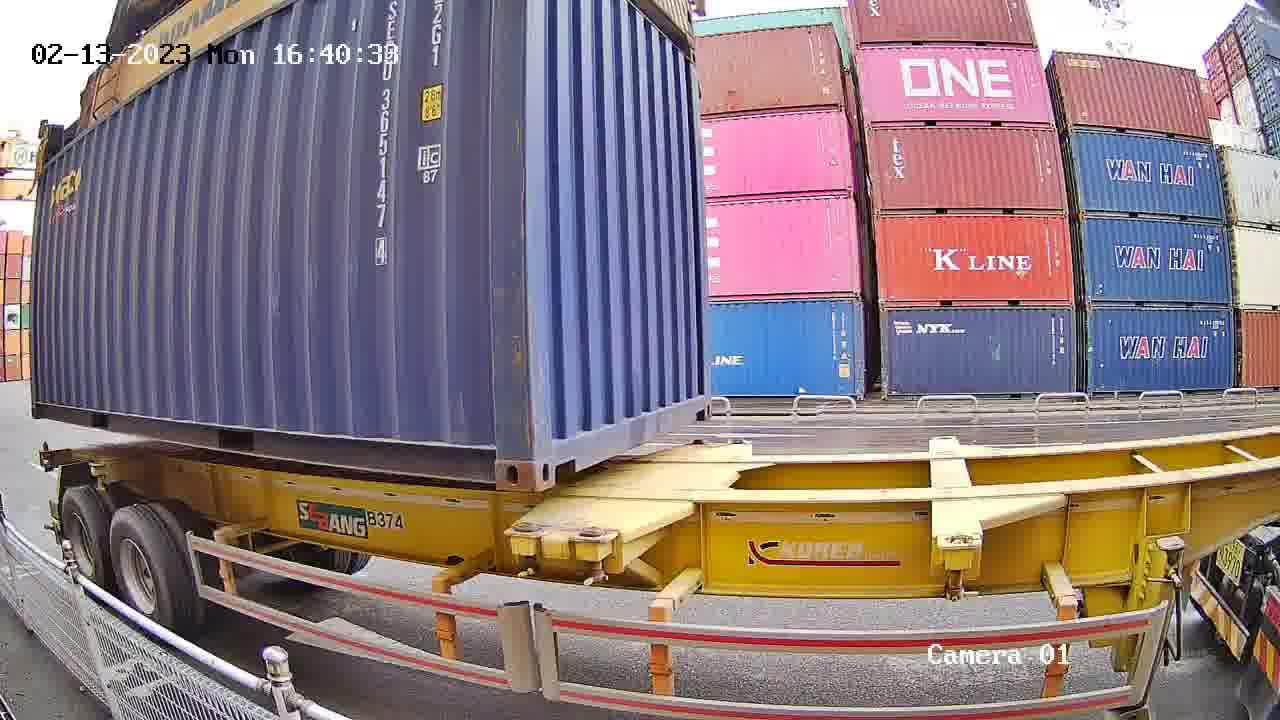Chassis: (510, 441, 707, 538), (575, 440, 749, 543)
Cone: (576, 527, 613, 586), (510, 521, 544, 579)
Hole_L: (531, 416, 584, 493)
Hole_R: (463, 426, 532, 492), (686, 384, 714, 425)
Tire: (110, 509, 175, 634), (60, 492, 105, 589)
